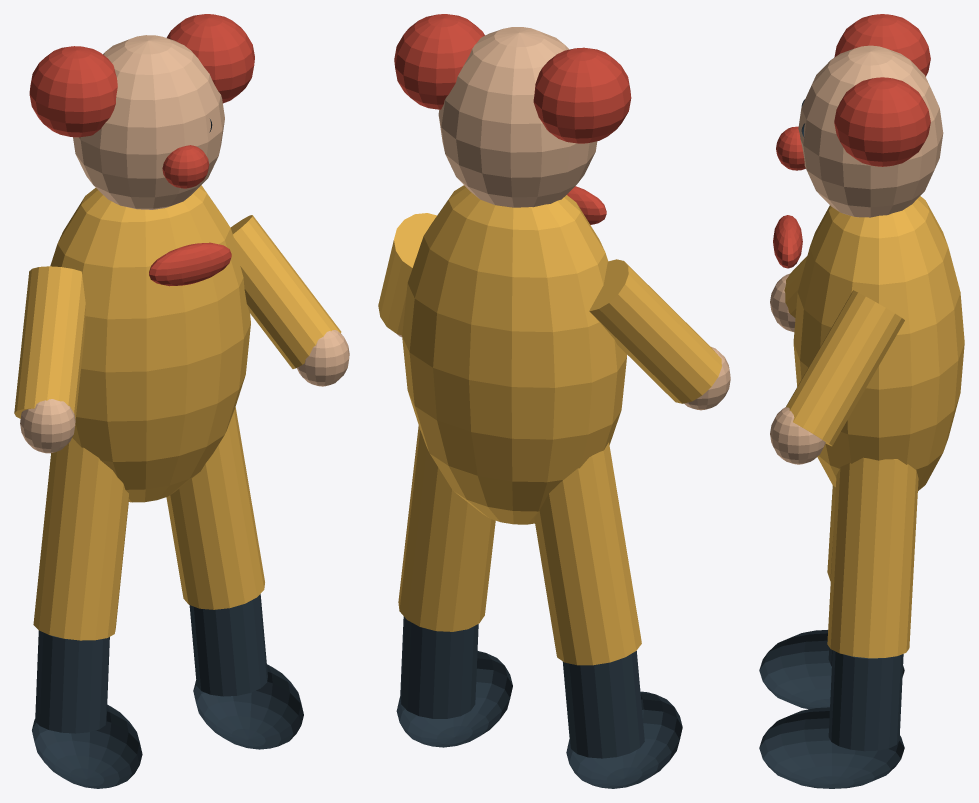
The model's file is scendance-plan-rodeo-clown.glb.
3 views of the same model, side by side, from view 1: azimuth 30°, elevation 25°; view 2: azimuth 150°, elevation 25°; view 3: azimuth 270°, elevation 25° (orthographic). The views are drawn at different scales.
Bounding box in the file's own units: 0.856 × 1.79 × 0.48.
